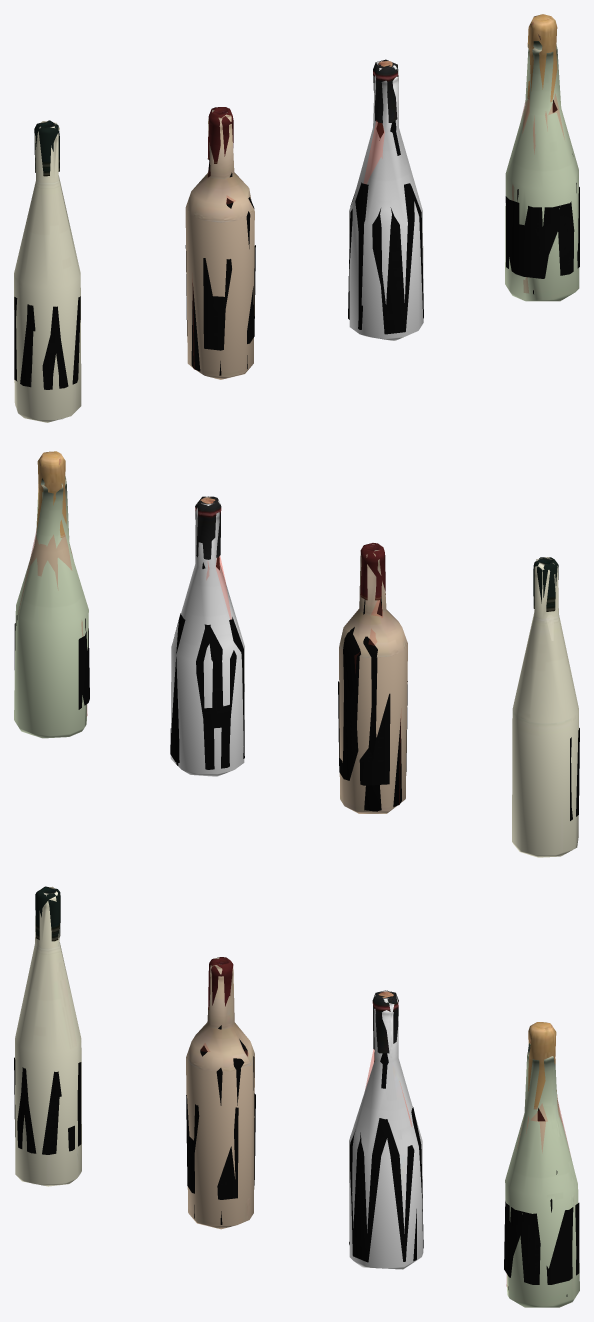
Rendered from wine_bottles_01.glb.
3 renders of one model, top to bottom at view 1: azimuth 30°, elevation 25°; view 2: azimuth 150°, elevation 25°; view 3: azimuth 330°, elevation 25°, orthographic.
Parts seen in each view (by area): view 1: wine_bottles_01_champagne, wine_bottles_01_alsace, wine_bottles_01_burgundy, wine_bottles_01_bordeaux; view 2: wine_bottles_01_champagne, wine_bottles_01_alsace, wine_bottles_01_burgundy, wine_bottles_01_bordeaux; view 3: wine_bottles_01_champagne, wine_bottles_01_alsace, wine_bottles_01_burgundy, wine_bottles_01_bordeaux.
Part boxes in pixels (x1,y1,x2,y2): wine_bottles_01_champagne: [505, 14, 579, 301]; wine_bottles_01_alsace: [14, 120, 81, 422]; wine_bottles_01_burgundy: [348, 59, 423, 340]; wine_bottles_01_bordeaux: [185, 107, 255, 379]; wine_bottles_01_champagne: [14, 451, 89, 738]; wine_bottles_01_alsace: [512, 557, 579, 857]; wine_bottles_01_burgundy: [170, 496, 244, 776]; wine_bottles_01_bordeaux: [338, 543, 407, 813]; wine_bottles_01_champagne: [504, 1022, 579, 1307]; wine_bottles_01_alsace: [14, 886, 81, 1186]; wine_bottles_01_burgundy: [349, 990, 423, 1269]; wine_bottles_01_bordeaux: [186, 957, 255, 1229].
Bounding box in the file's own units: 0.6753 × 0.3314 × 0.0796.
9 materials, 6 textured.
